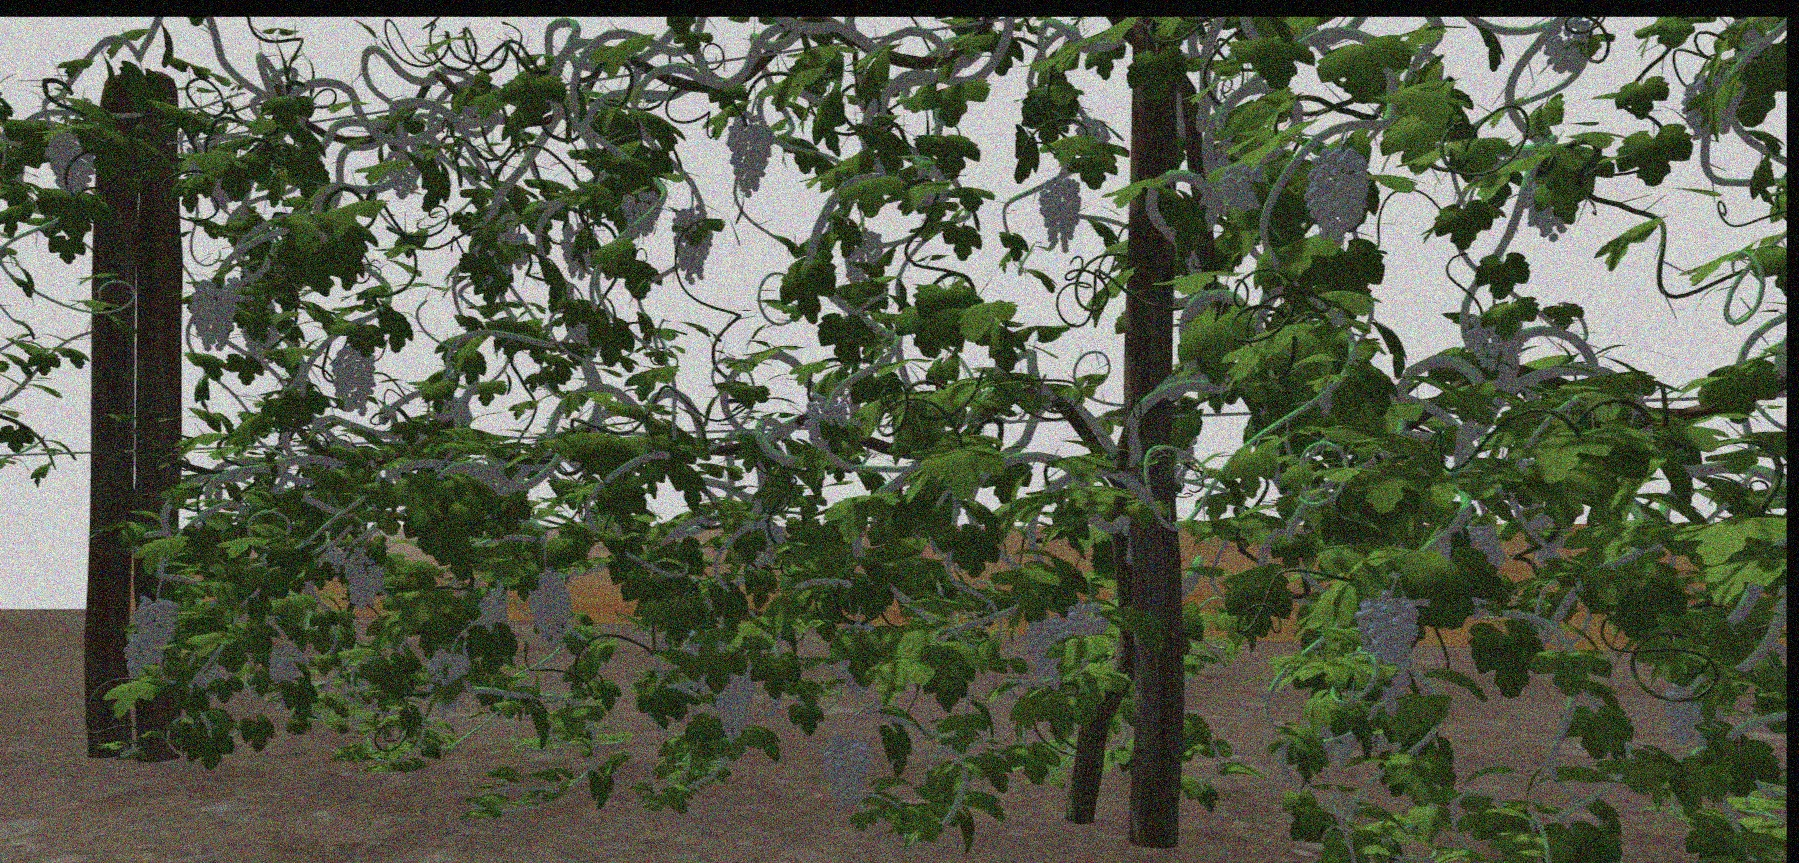grape: (1305, 143, 1372, 239), (1355, 592, 1419, 689), (725, 116, 772, 199), (821, 734, 870, 809), (187, 279, 237, 350), (527, 569, 574, 643), (1038, 174, 1082, 252), (330, 343, 377, 414), (44, 129, 95, 193), (670, 207, 712, 283), (714, 671, 756, 743), (1543, 20, 1594, 73), (1662, 681, 1704, 745), (134, 594, 176, 658), (342, 547, 383, 611), (802, 392, 846, 451), (841, 225, 883, 283), (1026, 619, 1064, 684), (1220, 162, 1264, 212), (621, 191, 663, 235), (1467, 314, 1500, 371), (1495, 328, 1528, 382), (427, 647, 470, 687), (1065, 602, 1108, 639), (267, 642, 304, 682), (125, 642, 162, 679)
